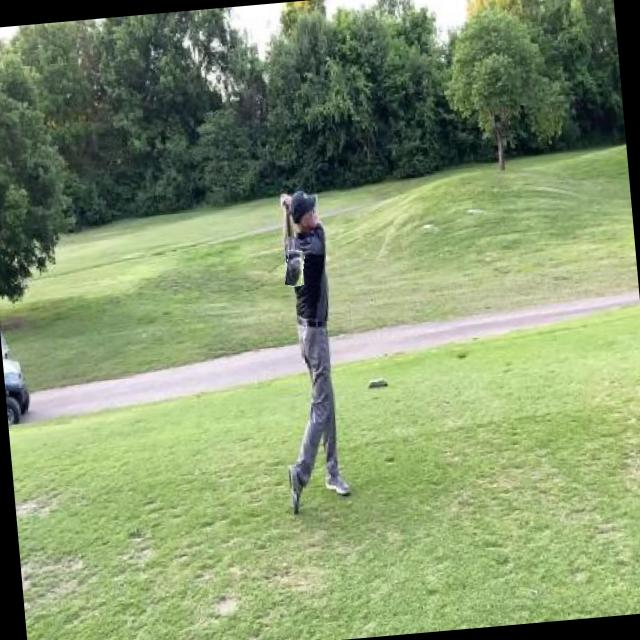club head: (284, 248, 305, 286)
